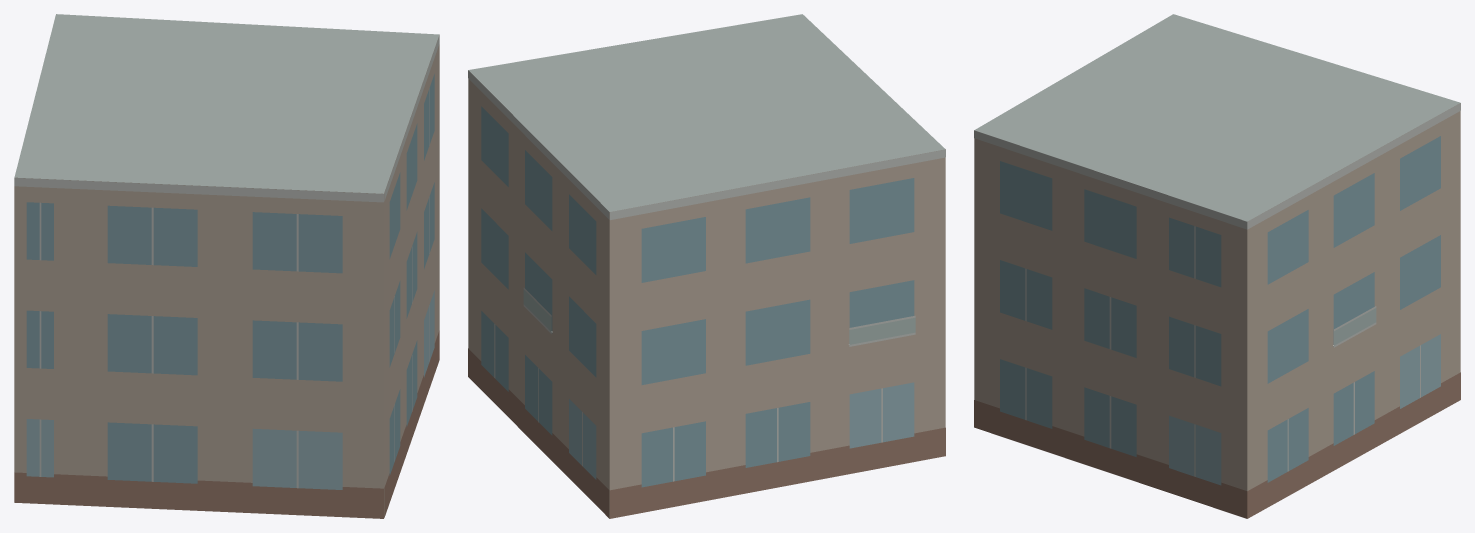
The model's file is survey-upis-32795907.glb.
3 views of the same model, side by side, from view 1: azimuth 30°, elevation 25°; view 2: azimuth 150°, elevation 25°; view 3: azimuth 270°, elevation 25° (orthographic). The views are drawn at different scales.
Parts seen in each view (by area): view 1: survey-upis-32795907.tmp; view 2: survey-upis-32795907.tmp; view 3: survey-upis-32795907.tmp.
Part boxes in pixels (bbox=[...]): survey-upis-32795907.tmp: bbox=[14, 14, 439, 518]; survey-upis-32795907.tmp: bbox=[468, 14, 945, 518]; survey-upis-32795907.tmp: bbox=[974, 14, 1460, 518].
Size of the model in its own units: 13.73 by 9.15 by 13.59.
